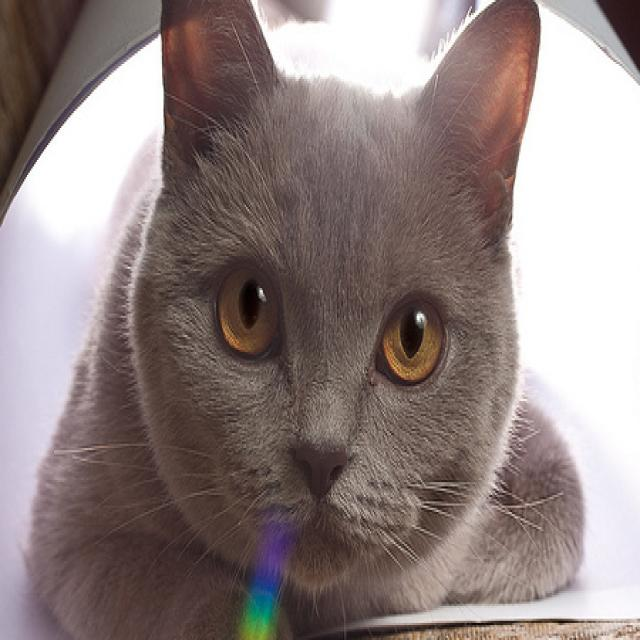British Shorthair: (20, 0, 590, 640)
